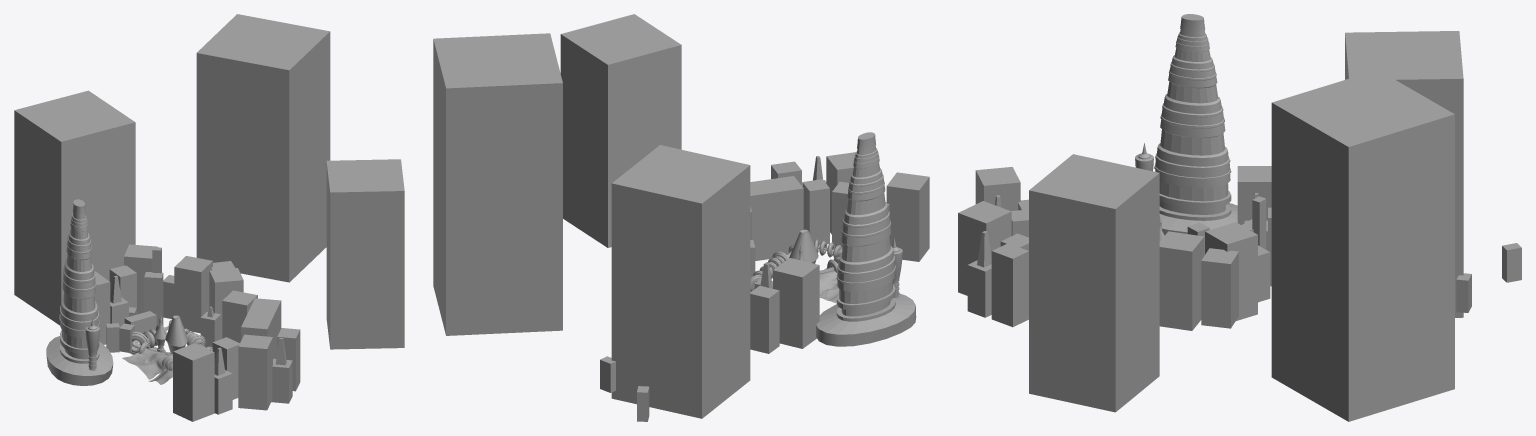
File: TestTrack.fbx
3 renders of one model, left to right at view 1: azimuth 30°, elevation 25°; view 2: azimuth 150°, elevation 25°; view 3: azimuth 270°, elevation 25°, orthographic. The views are drawn at different scales.
Parts seen in each view (by area): view 1: pCube15, pCube20, pCube19, pCylinder3, pCube24, pCube30, pCube13, pCube18, pCube17, pCube16, pCube12, pCube9 (+15 smaller); view 2: pCube15, pCube20, pCube19, pCylinder3, pCube18, pCube6, pCube24, pCube7, pCube35, pCube30, pCube27, pCylinder4 (+4 smaller); view 3: pCube15, pCube19, pCylinder3, pCube20, pCube16, pCube33, pCube21, pCube30, pCube13, pCube24, pCube6, pCube31 (+4 smaller).
Boxes of the visible parts, box(x1,y1,x2,y2) form: pCube15: box(196, 14, 330, 282); pCube20: box(14, 90, 135, 325); pCube19: box(326, 159, 404, 349); pCylinder3: box(46, 199, 113, 385); pCube24: box(173, 343, 214, 421); pCube30: box(238, 334, 272, 410); pCube13: box(174, 256, 212, 333); pCube18: box(241, 298, 281, 358); pCube17: box(222, 290, 257, 342); pCube16: box(209, 268, 243, 338); pCube12: box(124, 244, 157, 314); pCube9: box(144, 272, 163, 325); pCube15: box(433, 33, 562, 335); pCube20: box(611, 145, 750, 418); pCube19: box(560, 14, 681, 247); pCylinder3: box(816, 132, 916, 346); pCube18: box(750, 176, 803, 260); pCube6: box(773, 258, 819, 348); pCube24: box(886, 172, 929, 261); pCube7: box(750, 285, 779, 353); pCube35: box(802, 179, 829, 245); pCube30: box(826, 152, 855, 234); pCube27: box(832, 181, 849, 247); pCylinder4: box(789, 229, 818, 263); pCube15: box(1271, 70, 1454, 421); pCube19: box(1029, 154, 1159, 412); pCylinder3: box(1154, 14, 1237, 235); pCube20: box(1345, 31, 1463, 317); pCube16: box(1159, 231, 1204, 330); pCube33: box(991, 243, 1028, 327); pCube21: box(1201, 248, 1238, 328); pCube30: box(958, 201, 1011, 295); pCube13: box(1205, 222, 1257, 320); pCube24: box(975, 167, 1020, 210); pCube6: box(1237, 166, 1271, 224); pCube31: box(967, 260, 991, 317).
Bounding box in the file's own units: 1802 × 1152 × 1992.
Materials: 6 (1 with a texture image).
